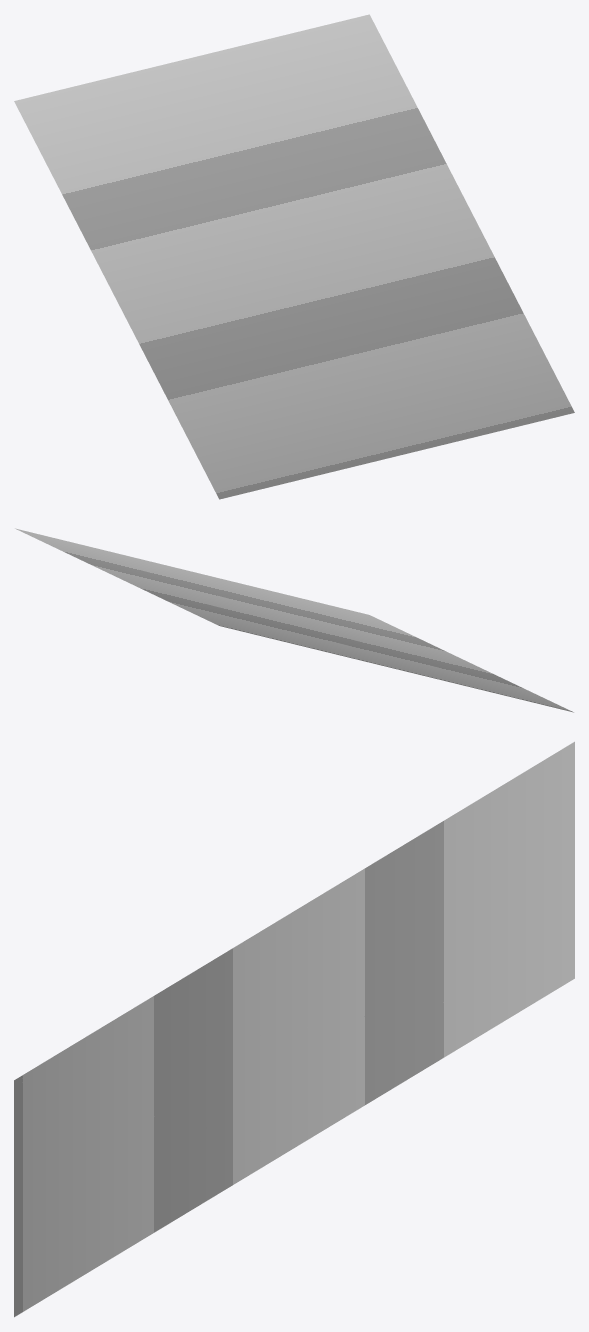
3 views of the same model, one above another, from view 1: azimuth 30°, elevation 25°; view 2: azimuth 150°, elevation 25°; view 3: azimuth 270°, elevation 25° (orthographic). The views are drawn at different scales.
Bounding box in the file's own units: 1 × 0.6667 × 1.
1 material, 1 textured.
